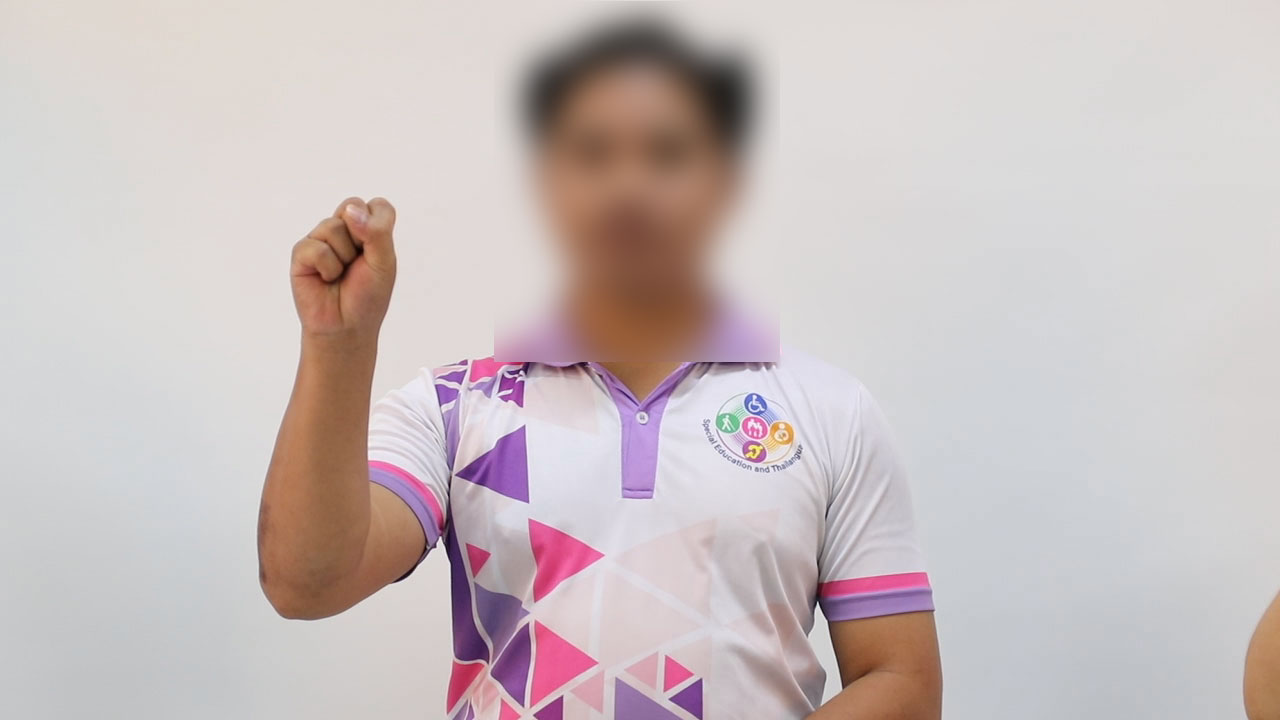sor: (275, 182, 416, 350)
